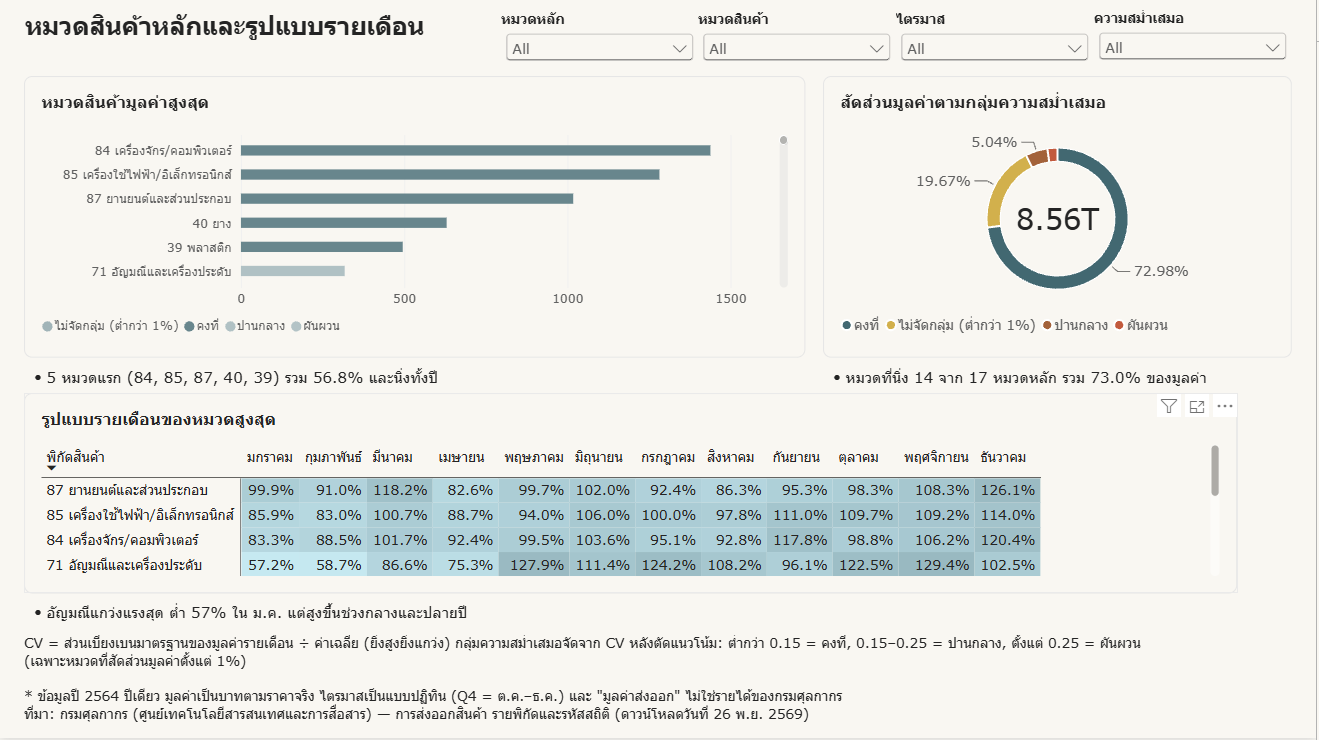

Layout of this report page (visuals, bound fields, positions):
{"tool":"powerbi","page":{"name":"2 หมวดสินค้า","canvas":[1280,720],"ordinal":1},"visuals":[{"type":"textbox","box":[24,12,410,48],"z":0},{"type":"slicer","title":"หมวดหลัก","fields":{"Values":["dim_hs_chapter.section_name_th"]},"box":[487.5,12.5,192,48],"z":1000},{"type":"slicer","title":"หมวดสินค้า","fields":{"Values":["dim_hs_chapter.Chapter Label"]},"box":[678.8,12.5,192,48],"z":2000},{"type":"slicer","title":"ไตรมาส","fields":{"Values":["dim_month.quarter_label"]},"box":[871.2,12.5,192,48],"z":3000},{"type":"slicer","title":"ความสม่ำเสมอ","fields":{"Values":["summary_chapter_stability.stability_class"]},"box":[1064,12,192,48],"z":4000},{"type":"barChart","title":"หมวดสินค้ามูลค่าสูงสุด","fields":{"Category":["dim_hs_chapter.Chapter Short"],"Series":["summary_chapter_stability.stability_class"],"Y":["_Measure.Total Export (พันล้านบาท)"]},"box":[23.8,76.2,760,273.8],"z":5000},{"type":"textbox","box":[23.8,360,760,23.8],"z":6000},{"type":"donutChart","title":"สัดส่วนมูลค่าตามกลุ่มความสม่ำเสมอ","fields":{"Category":["summary_chapter_stability.stability_class"],"Y":["_Measure.Total Export THB"]},"box":[800,76.2,456.2,273.8],"z":7000},{"type":"textbox","box":[800,360,456.2,47.5],"z":8000},{"type":"pivotTable","title":"รูปแบบรายเดือนของหมวดสูงสุด","fields":{"Columns":["dim_month.month_name_th"],"Rows":["dim_hs_chapter.Chapter Short"],"Values":["_Measure.Monthly Index vs Avg"]},"box":[23.8,383.8,1180,195],"z":9000},{"type":"textbox","box":[23.8,588.8,1232.5,30],"z":10000},{"type":"textbox","box":[23.8,670,1255,41.2],"z":11000},{"type":"textbox","box":[23.8,618.8,1105,42.5],"z":12000}]}

Visuals, with their boxes in screenshot pixels (x1, y1, x2, y2), scaled from the page's 1280x720 canvas onto the 1319x740 screenshot:
textbox: crop(25, 12, 447, 62)
"หมวดหลัก" slicer: crop(502, 13, 700, 62)
"หมวดสินค้า" slicer: crop(699, 13, 897, 62)
"ไตรมาส" slicer: crop(898, 13, 1096, 62)
"ความสม่ำเสมอ" slicer: crop(1096, 12, 1294, 62)
"หมวดสินค้ามูลค่าสูงสุด" barChart: crop(25, 78, 808, 360)
textbox: crop(25, 370, 808, 394)
"สัดส่วนมูลค่าตามกลุ่มความสม่ำเสมอ" donutChart: crop(824, 78, 1294, 360)
textbox: crop(824, 370, 1294, 419)
"รูปแบบรายเดือนของหมวดสูงสุด" pivotTable: crop(25, 394, 1240, 595)
textbox: crop(25, 605, 1295, 636)
textbox: crop(25, 689, 1318, 731)
textbox: crop(25, 636, 1163, 680)
